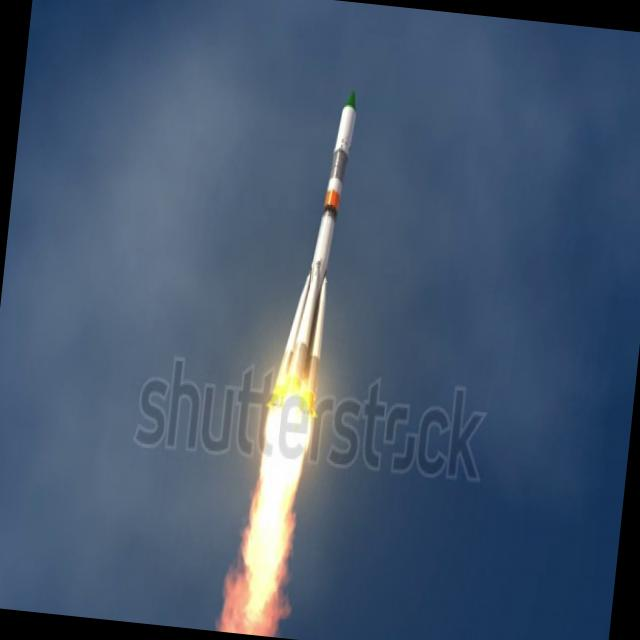rocket: (255, 83, 363, 518)
